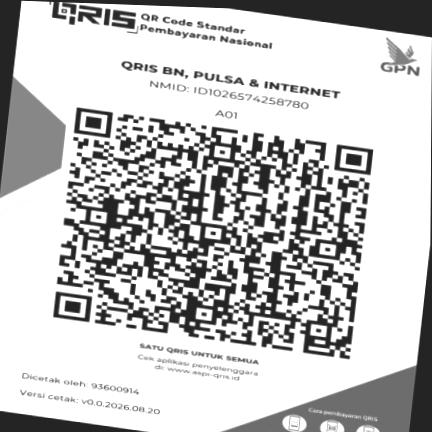Qris-Positioning: (0, 1, 432, 432)
